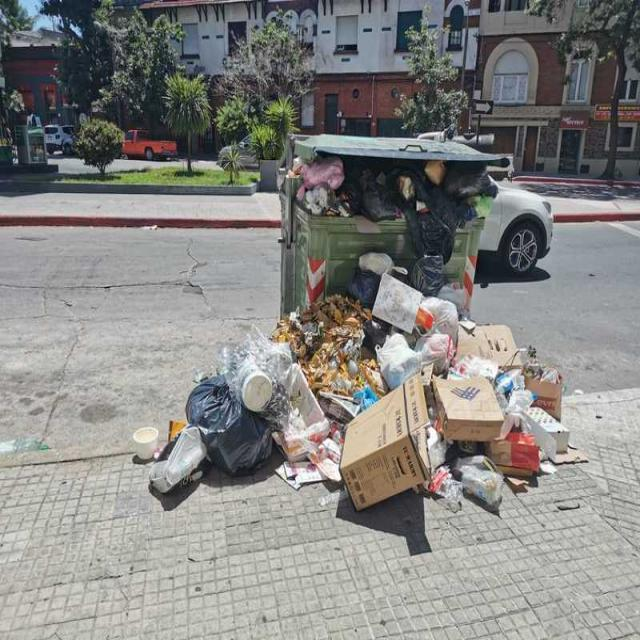garbage: (123, 252, 592, 517), (282, 136, 494, 258)
